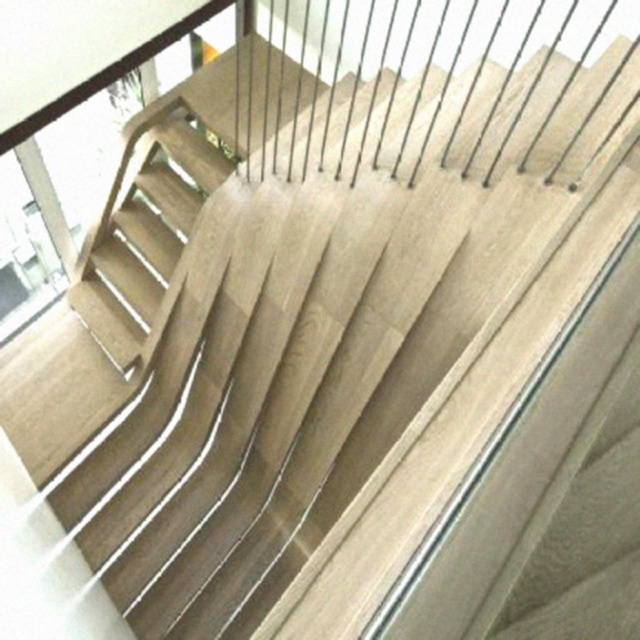stair: (1, 0, 256, 395), (275, 9, 640, 271)
